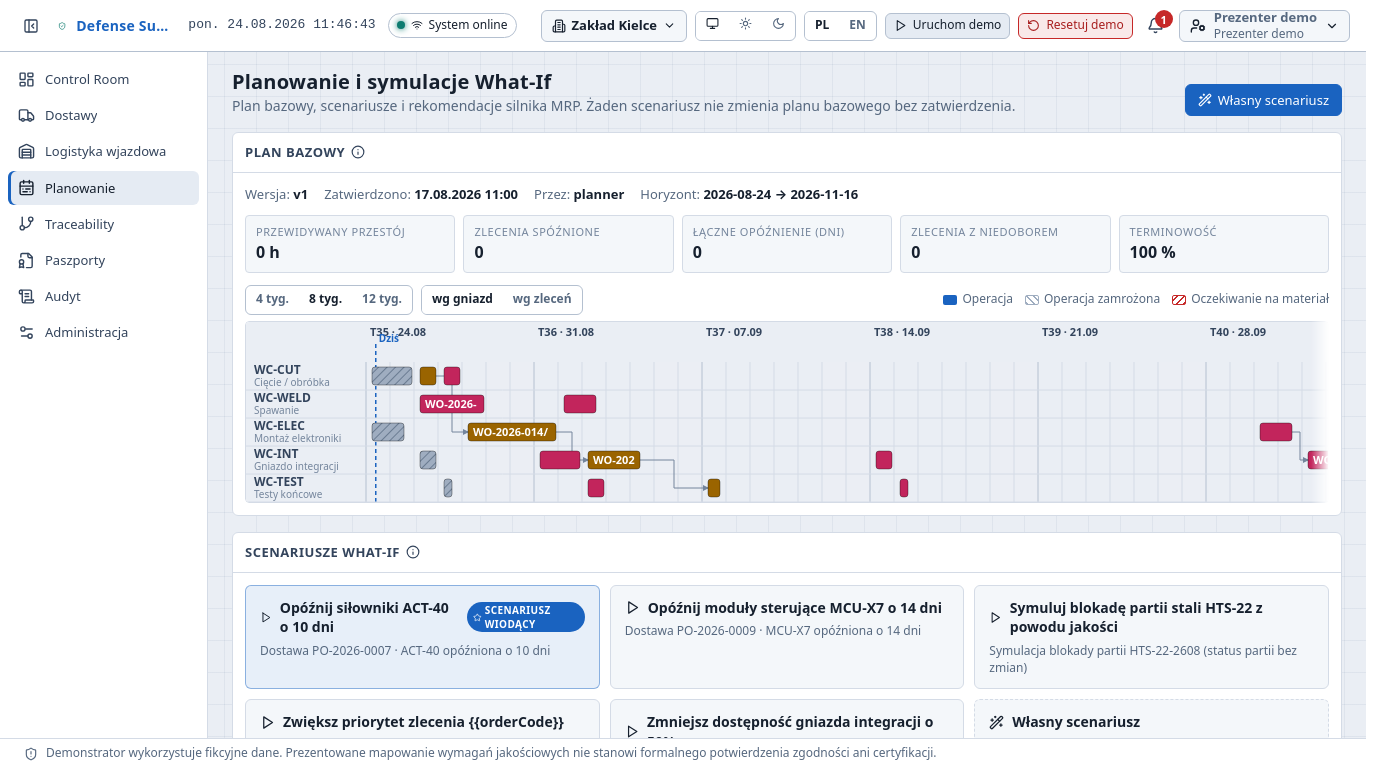
plant switching › badges each plant’s own headline scenario
Expected: the element with test id "scenario-featured-DELAY_ACT40_10D" is shown, [467,602,585,632]
Click the button with test id "site-switch" at (614, 26), box [540,10,687,42]
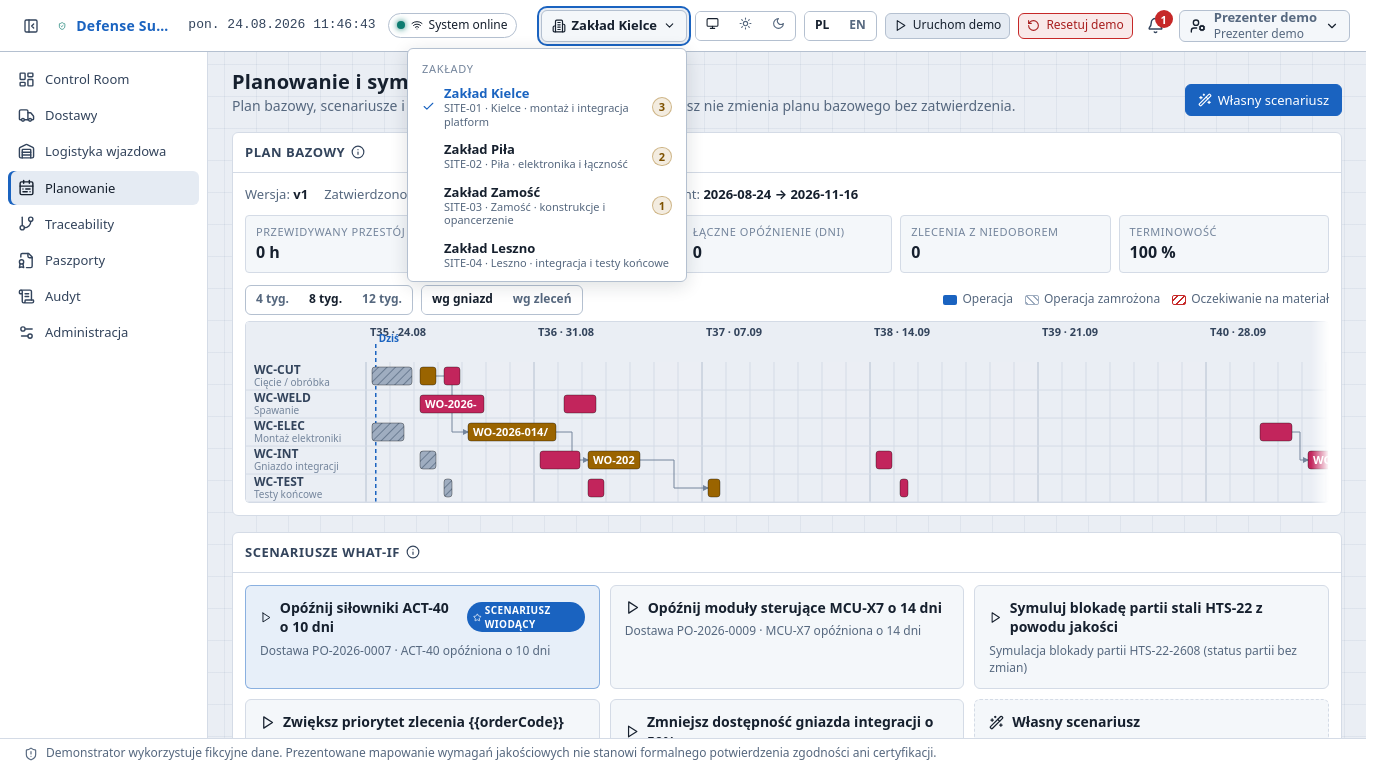
Click the option with test id "site-option-SITE-04" at (547, 255), box [414,235,680,275]
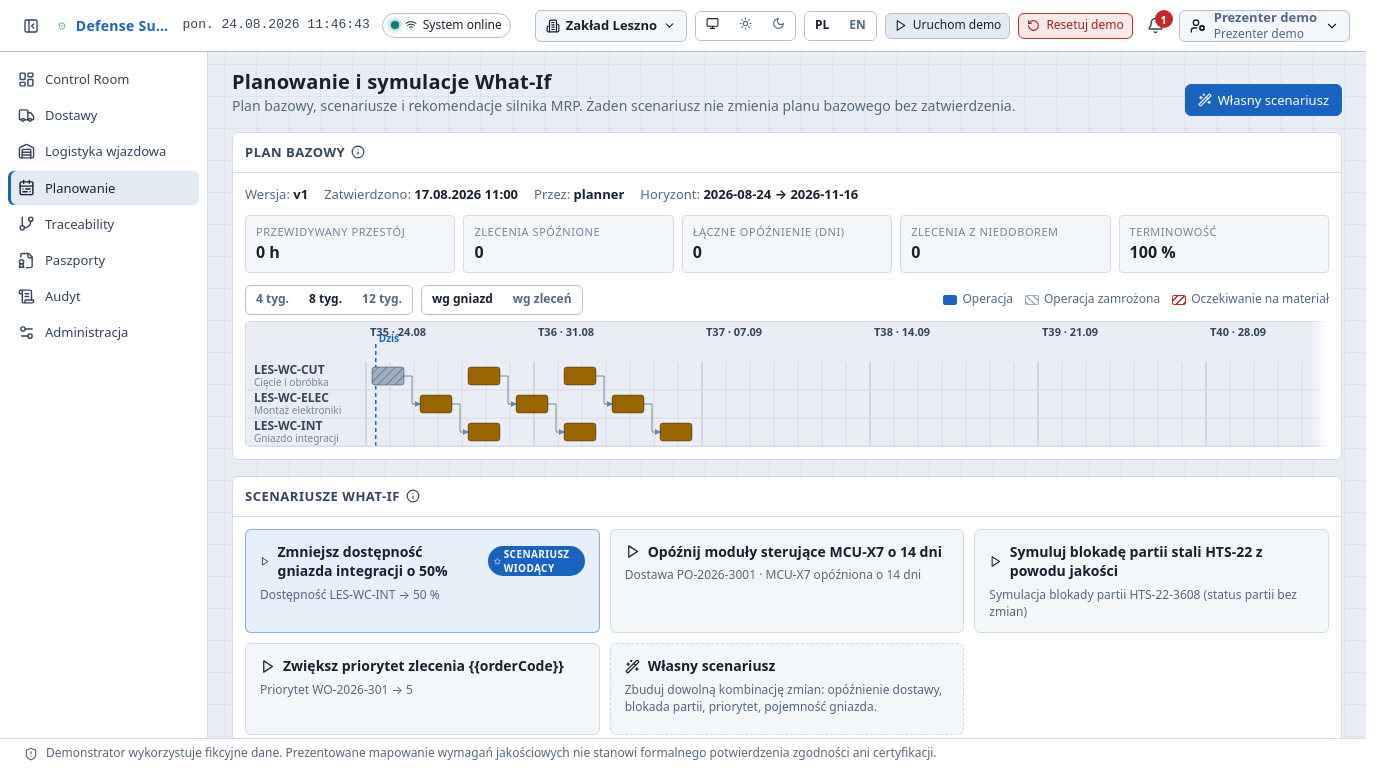
Expected: the element with test id "scenario-featured-CAPACITY_INT_50" is shown, [488,546,585,576]
Now the element with test id "scenario-featured-DELAY_ACT40_10D" is gone
